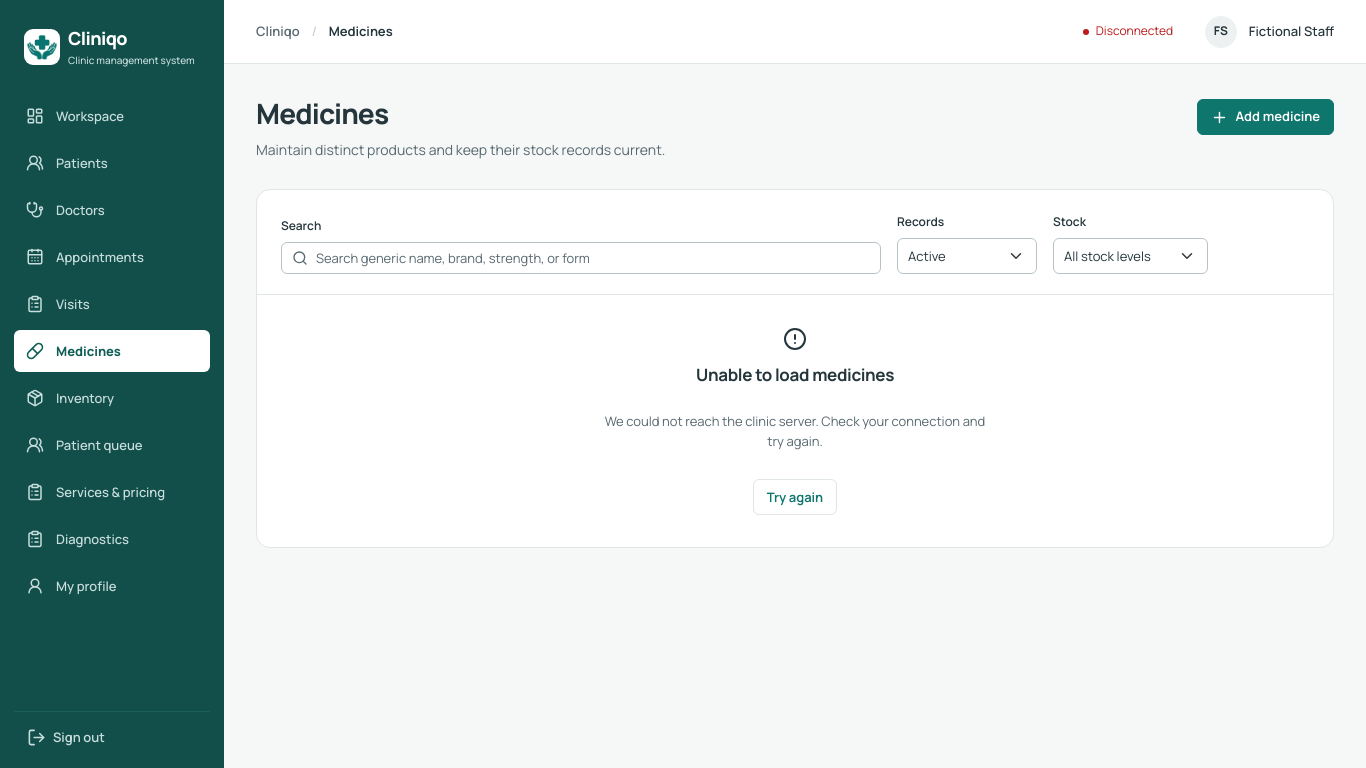
it: medicine and inventory screens › distinguishes unavailable catalog data from an empty catalog and offers retry
Expected: the heading "Unable to load medicines" is shown, [696,363,894,387]
Expected: the text "No medicines yet" is not shown
Click the button "Try again" at x=795, y=497, box [753,479,837,515]
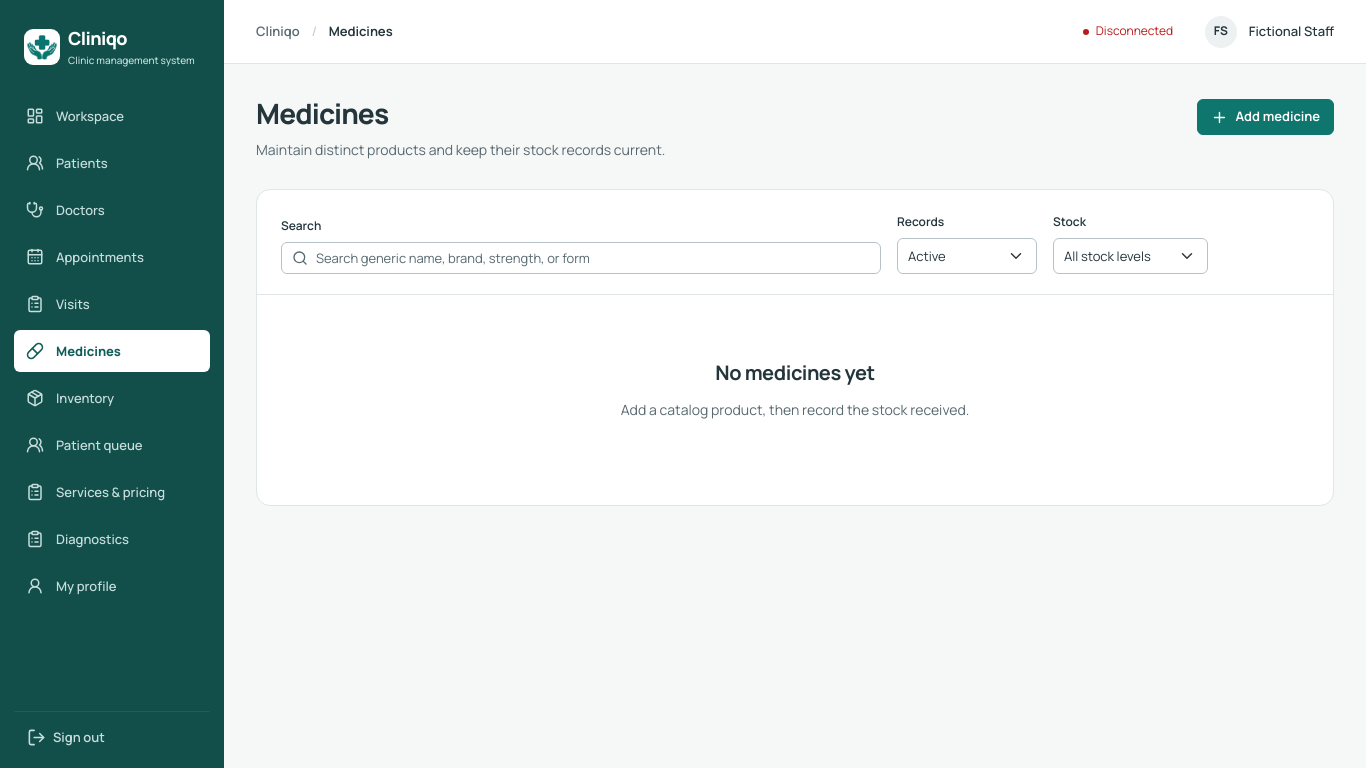
Expected: the heading "No medicines yet" is shown, [715,359,875,386]
